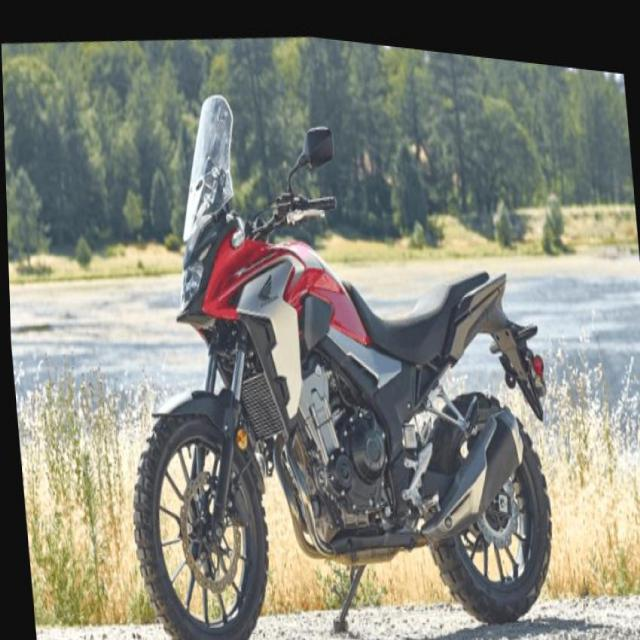CB500X: (92, 31, 562, 639)
